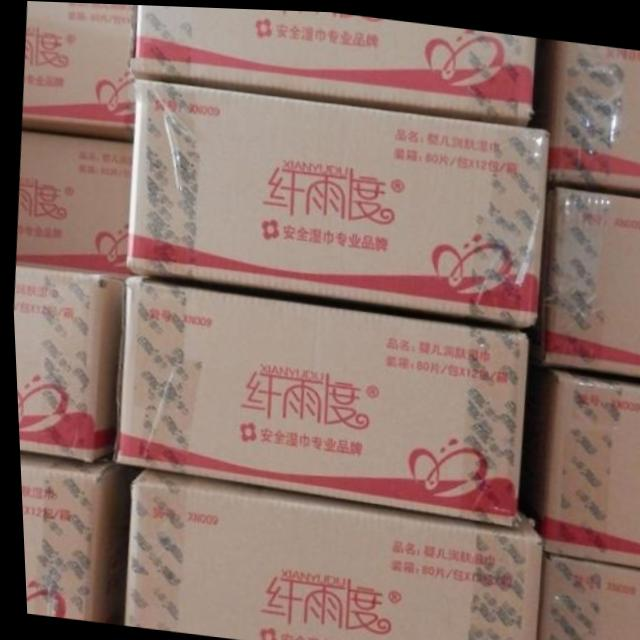box: (124, 77, 547, 325), (108, 273, 524, 523), (117, 466, 537, 640), (128, 4, 535, 122), (513, 361, 640, 564), (520, 183, 640, 382), (11, 263, 121, 461), (16, 449, 141, 623), (525, 34, 640, 192), (14, 127, 133, 274), (20, 1, 135, 141), (530, 547, 638, 640)
